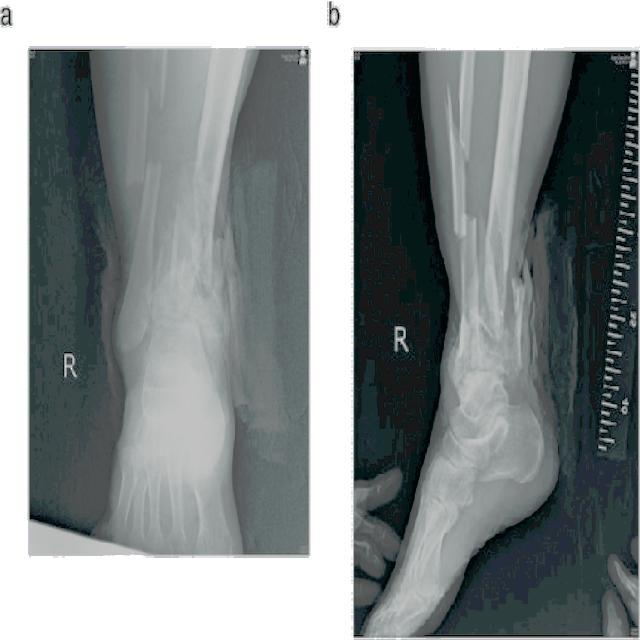Comminuted Fracture: (430, 76, 487, 169), (440, 189, 485, 262)
